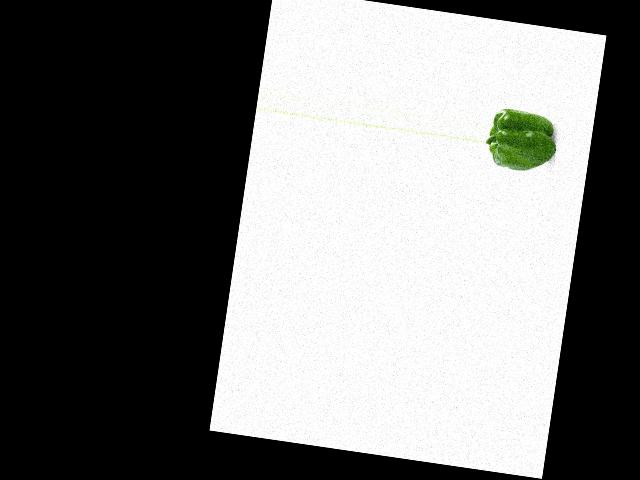bell_pepper: (483, 105, 558, 176)
